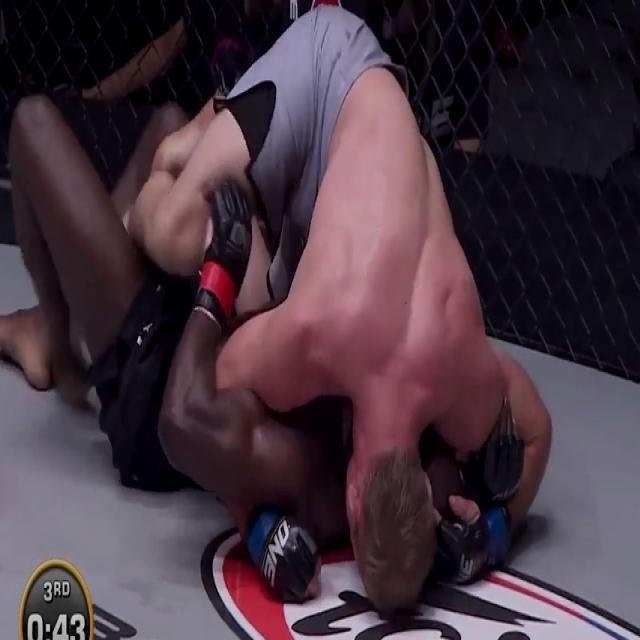fight: (1, 0, 581, 639)
